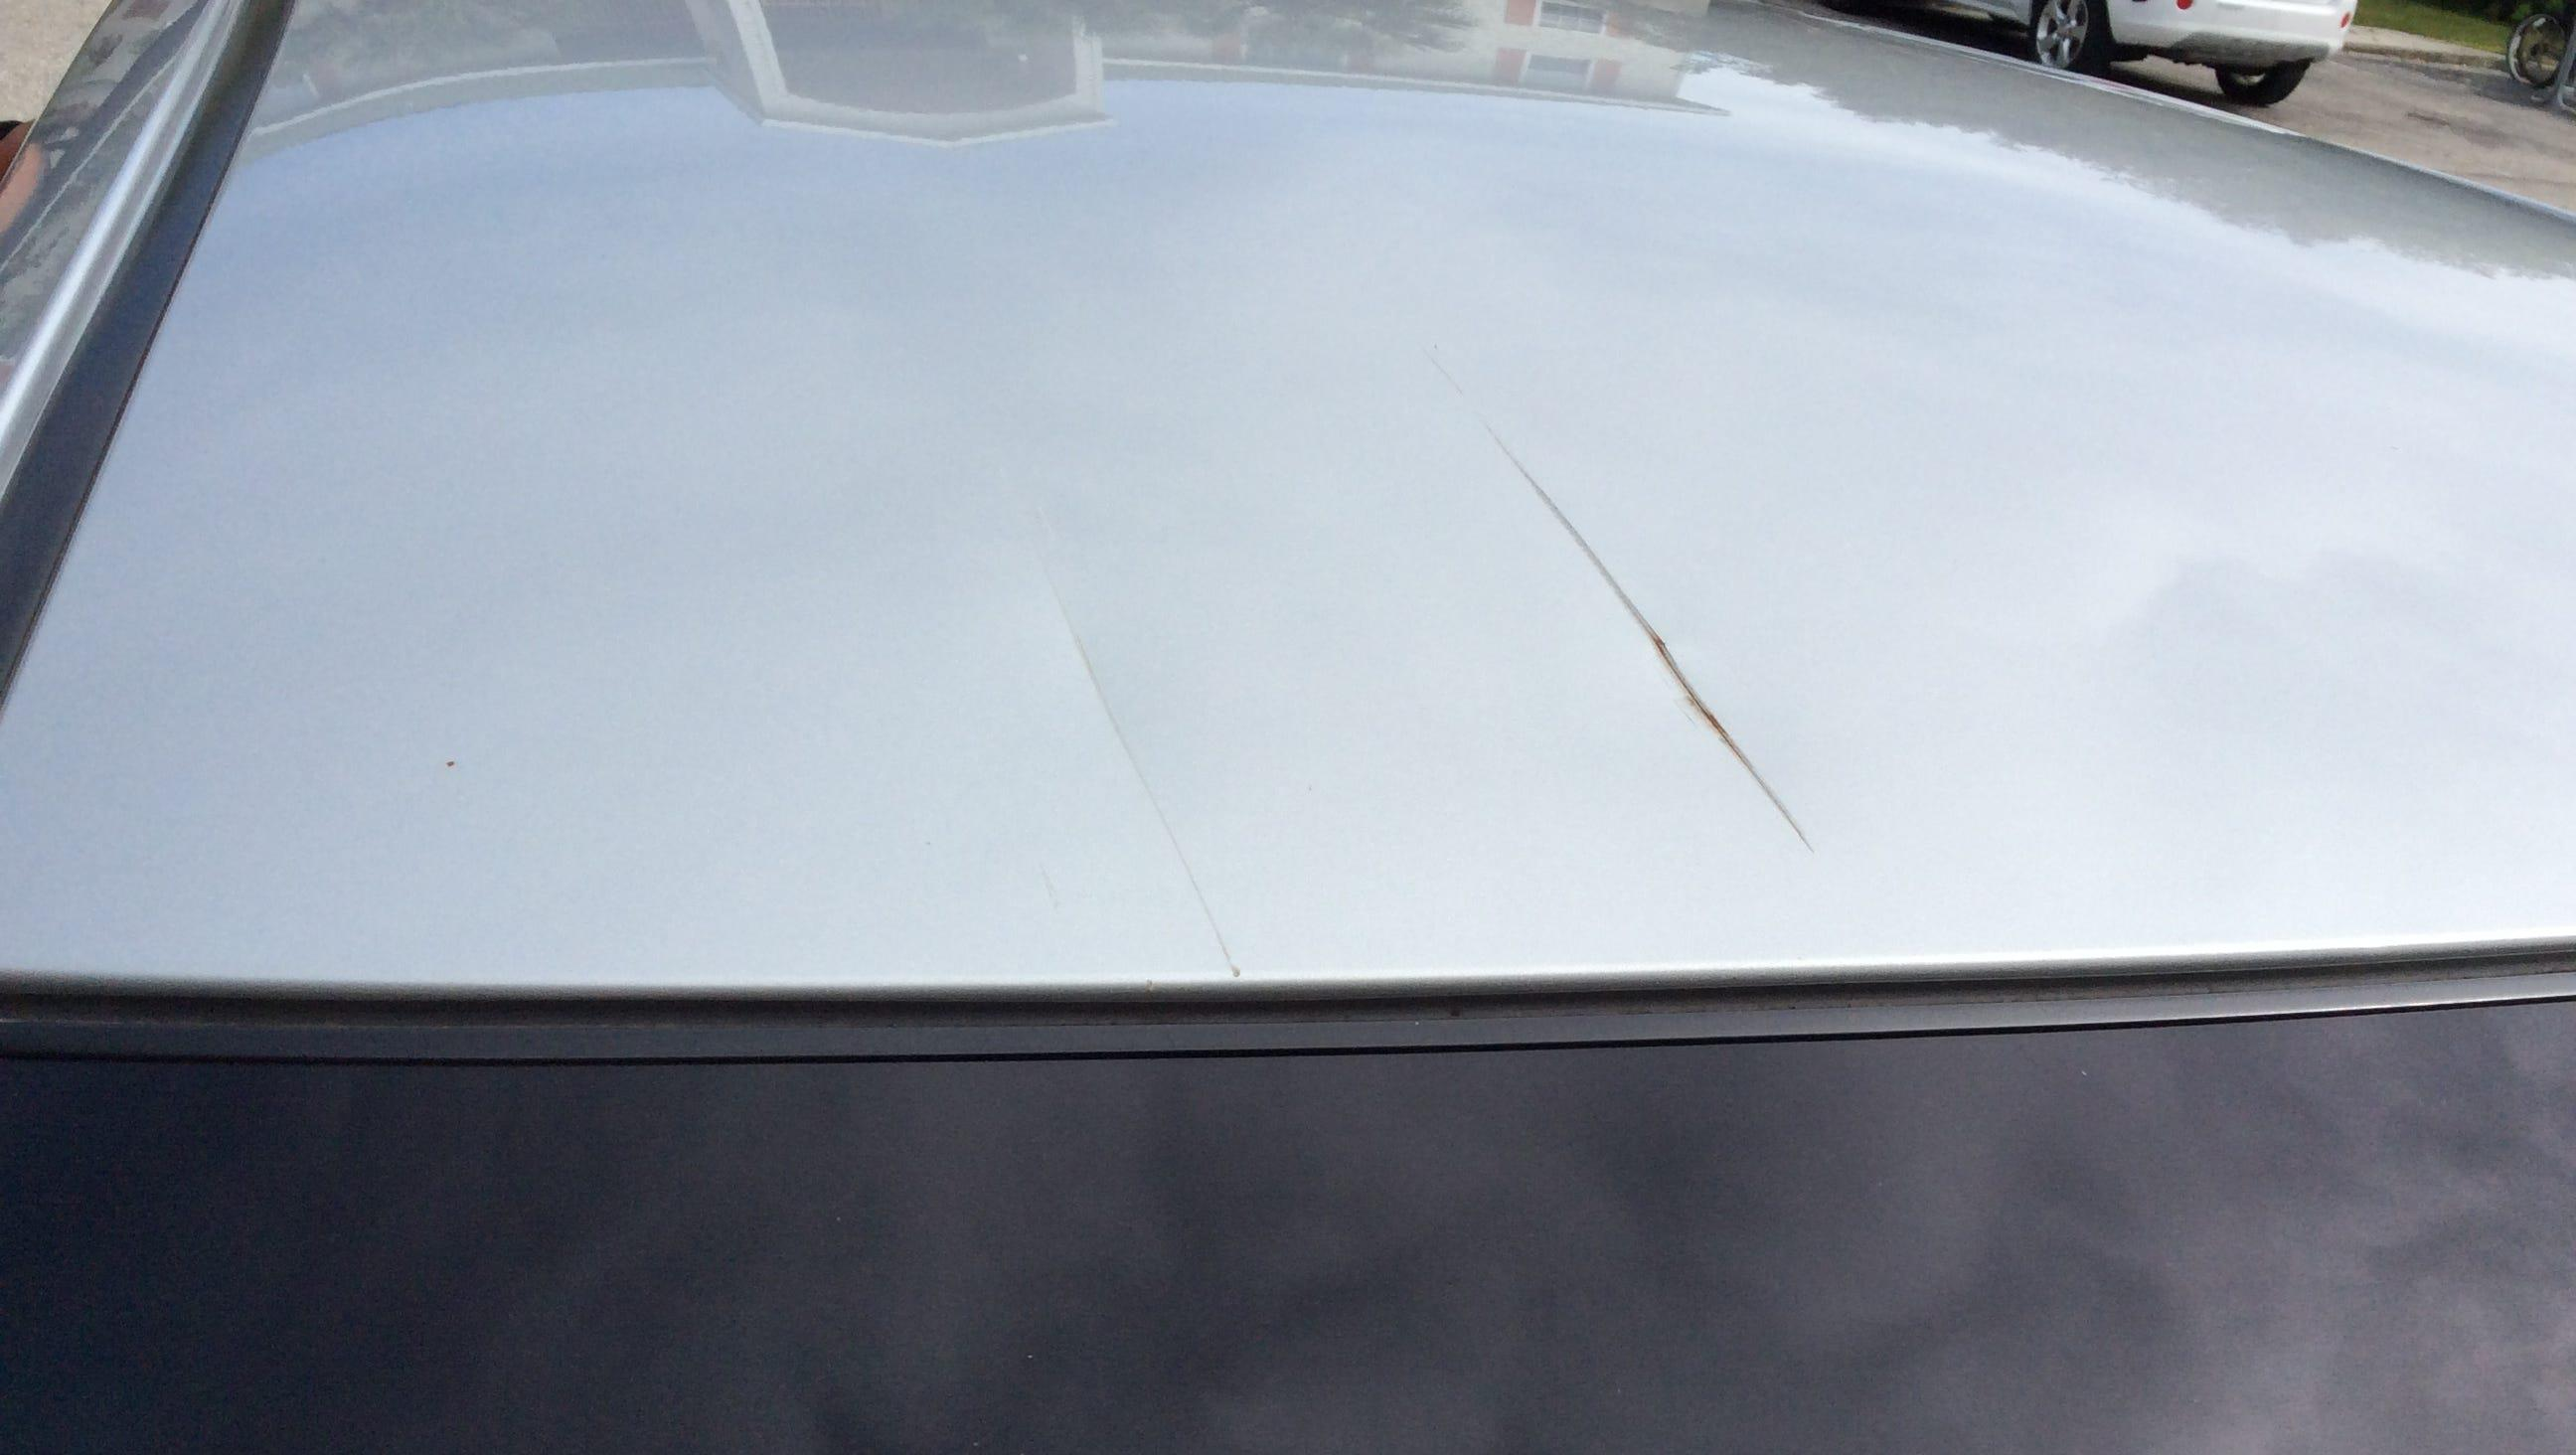roof-dent: (21, 1, 1583, 1454), (1376, 0, 2568, 1454)
